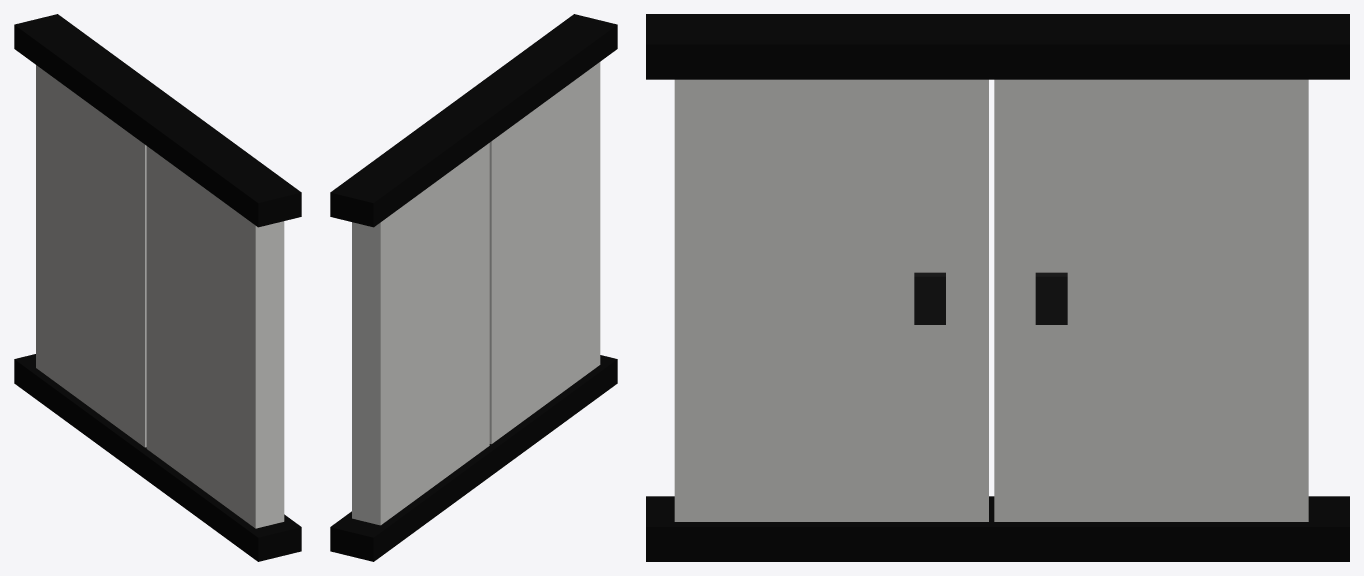
File: door.fbx
The picture shows the model from 3 angles, left to right: view 1: azimuth 30°, elevation 25°; view 2: azimuth 150°, elevation 25°; view 3: azimuth 270°, elevation 25°; orthographic projection. The views are drawn at different scales.
Parts seen in each view (by area): view 1: doorL, doorR, up, down; view 2: doorR, doorL, up, down; view 3: doorR, doorL, up, down, handleR, handleL.
Boxes of the visible parts, <box> form: doorL: <box>146,146,284,528</box>; doorR: <box>36,65,146,447</box>; up: <box>14,14,301,227</box>; down: <box>14,354,301,561</box>; doorR: <box>352,143,489,525</box>; doorL: <box>489,62,600,444</box>; up: <box>330,14,617,227</box>; down: <box>330,355,617,561</box>; doorR: <box>994,79,1308,521</box>; doorL: <box>674,79,988,521</box>; up: <box>646,14,1349,79</box>; down: <box>646,496,1349,561</box>; handleR: <box>1035,272,1067,324</box>; handleL: <box>914,272,945,324</box>.
Bounding box in the file's own units: 66.21 × 521 × 642.
Materials: 3 (3 with a texture image).
